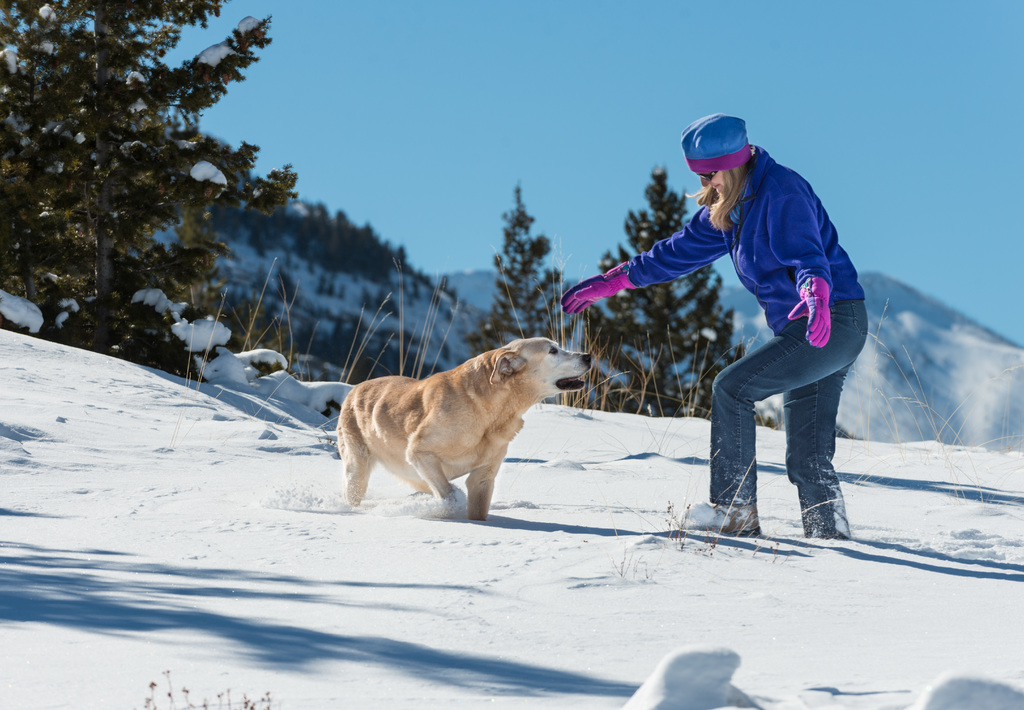Tree: (0, 0, 299, 384), (580, 165, 773, 431), (460, 180, 581, 357)
